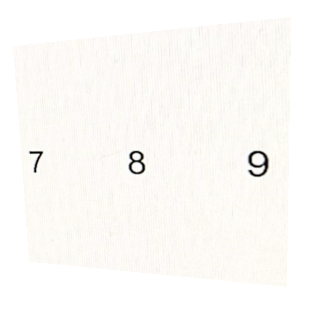eight: (126, 149, 148, 177)
nine: (247, 149, 269, 179)
seven: (26, 148, 45, 175)
